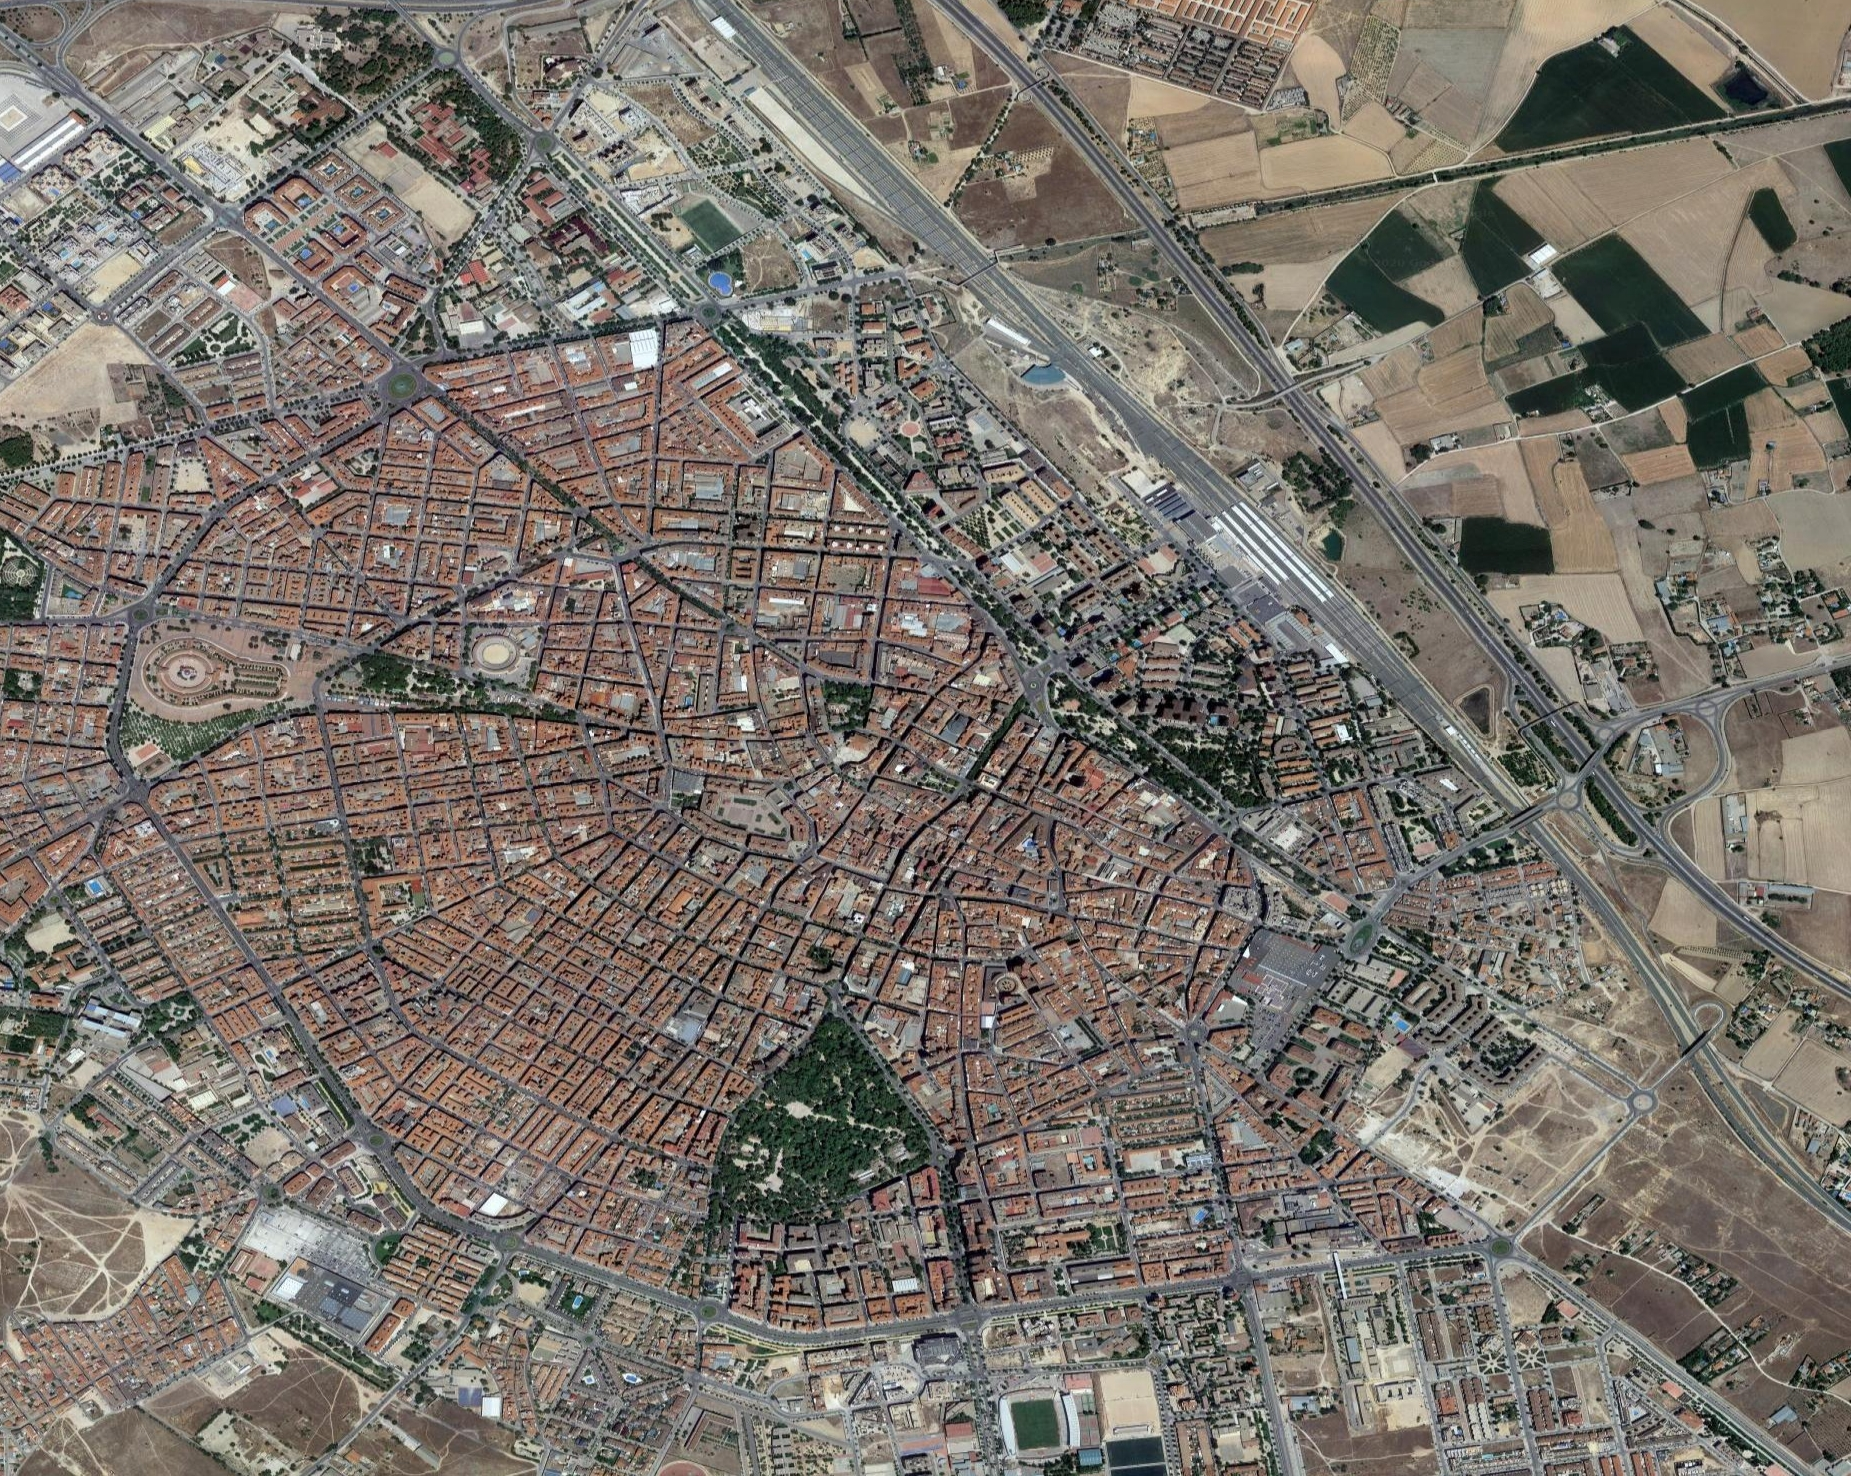motorway: (1108, 372, 1724, 828), (666, 2, 1282, 456), (1482, 789, 1851, 1221)
